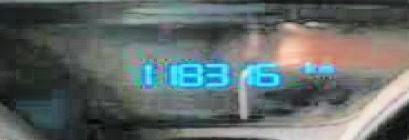1: (138, 62, 153, 85), (240, 64, 253, 85), (165, 64, 176, 85)
3: (202, 61, 227, 86)
6: (253, 62, 278, 86)
8: (176, 62, 202, 86)
X: (302, 61, 316, 74), (316, 64, 336, 73)
